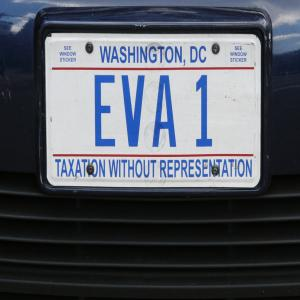Vehicle-registration-plate: (34, 12, 270, 194)
